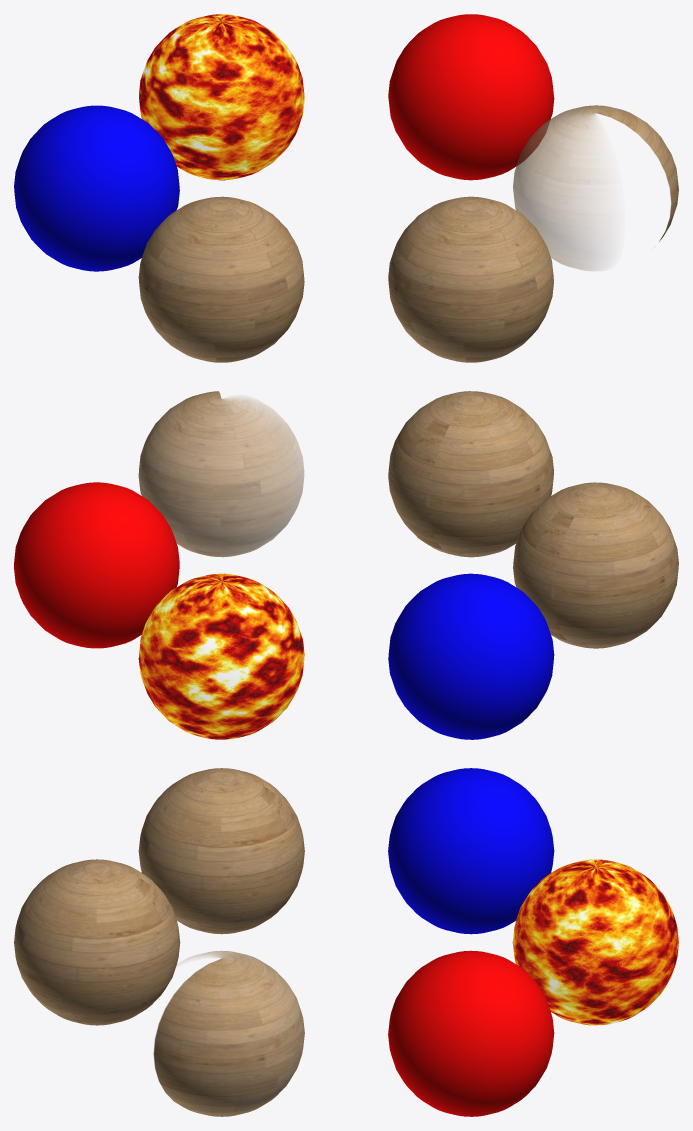
The model's file is PbrTest.gltf.
3 views of the same model, one above another, from view 1: azimuth 30°, elevation 25°; view 2: azimuth 150°, elevation 25°; view 3: azimuth 270°, elevation 25° (orthographic).
Parts seen in each view (by area): view 1: SphereBaseColor, SphereBaseColorAO, SphereMetallicRoughness, SphereEmissive, SphereBump, SphereBaseColorAlpha; view 2: SphereBump, SphereEmissive, SphereMetallicRoughness, SphereBaseColor, SphereBaseColorAO, SphereBaseColorAlpha; view 3: SphereBaseColor, SphereMetallicRoughness, SphereEmissive, SphereBump, SphereBaseColorAO, SphereBaseColorAlpha.
Boxes of the visible parts, left/top/right/bottom form: SphereBaseColor: left=388, top=196, right=553, bottom=362; SphereBaseColorAO: left=138, top=196, right=304, bottom=362; SphereMetallicRoughness: left=388, top=14, right=554, bottom=180; SphereEmissive: left=139, top=14, right=304, bottom=180; SphereBump: left=14, top=105, right=179, bottom=271; SphereBaseColorAlpha: left=513, top=105, right=678, bottom=270; SphereBump: left=388, top=573, right=554, bottom=739; SphereEmissive: left=138, top=573, right=304, bottom=739; SphereMetallicRoughness: left=14, top=482, right=179, bottom=648; SphereBaseColor: left=388, top=391, right=553, bottom=557; SphereBaseColorAO: left=513, top=482, right=678, bottom=648; SphereBaseColorAlpha: left=138, top=391, right=303, bottom=557; SphereBaseColor: left=14, top=859, right=180, bottom=1025; SphereMetallicRoughness: left=388, top=950, right=554, bottom=1116; SphereEmissive: left=512, top=859, right=678, bottom=1025; SphereBump: left=388, top=768, right=554, bottom=934; SphereBaseColorAO: left=138, top=768, right=304, bottom=934; SphereBaseColorAlpha: left=153, top=950, right=304, bottom=1116.
Size of the model in its own units: 7.2 by 2 by 8.
6 materials, 4 textured.
